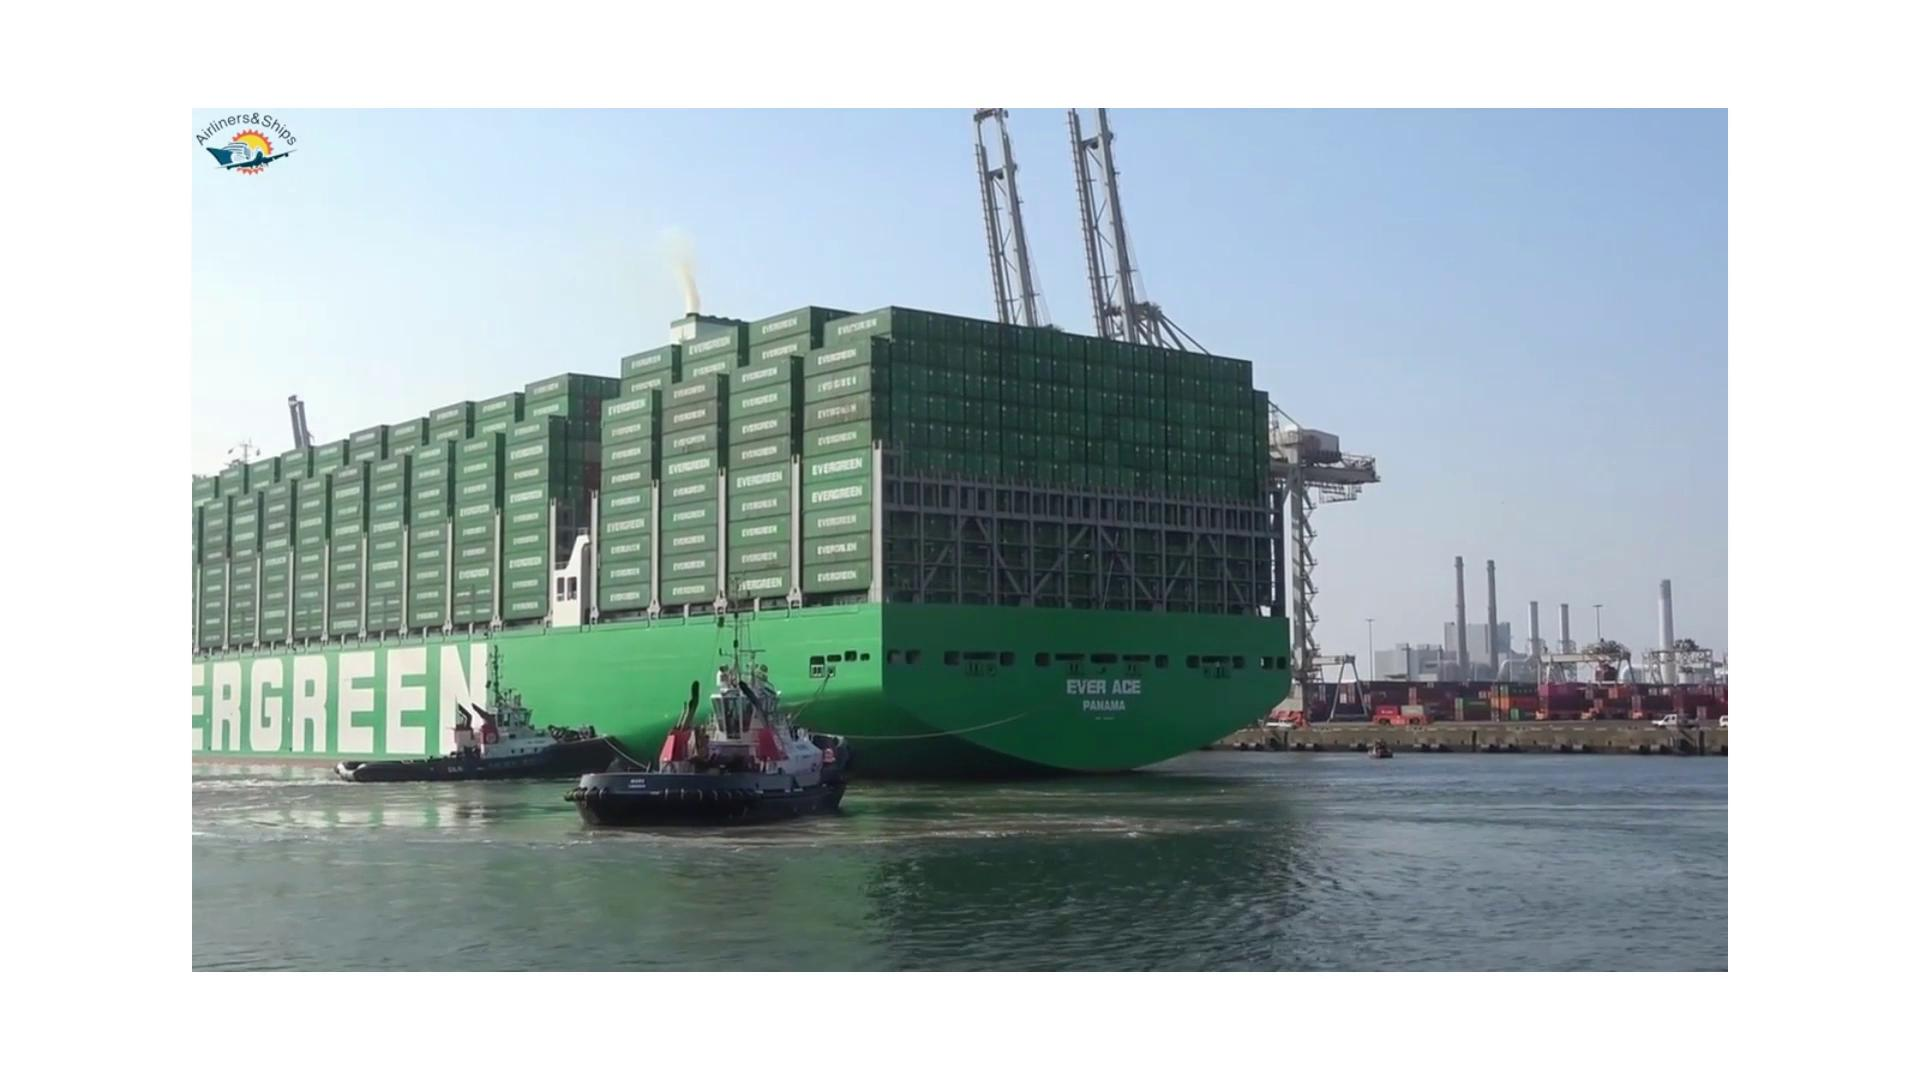OCR: (195, 641, 516, 774), (1051, 665, 1153, 729)
